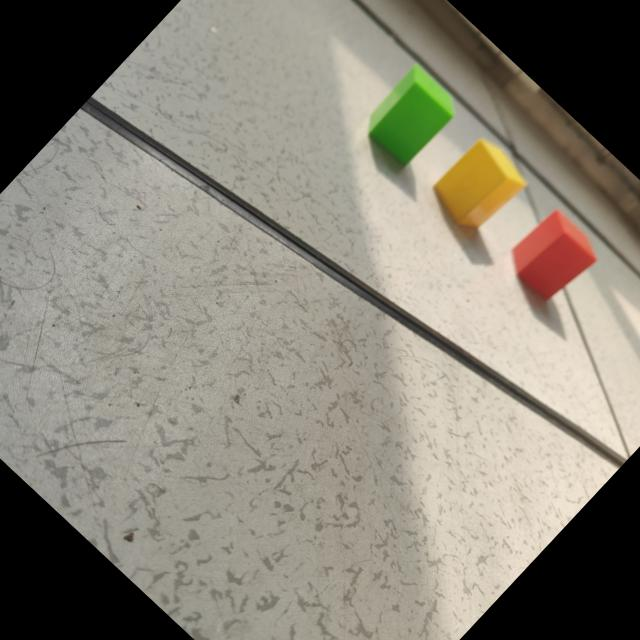green: (365, 68, 454, 172)
red: (510, 211, 595, 304)
yellow: (432, 139, 525, 231)
